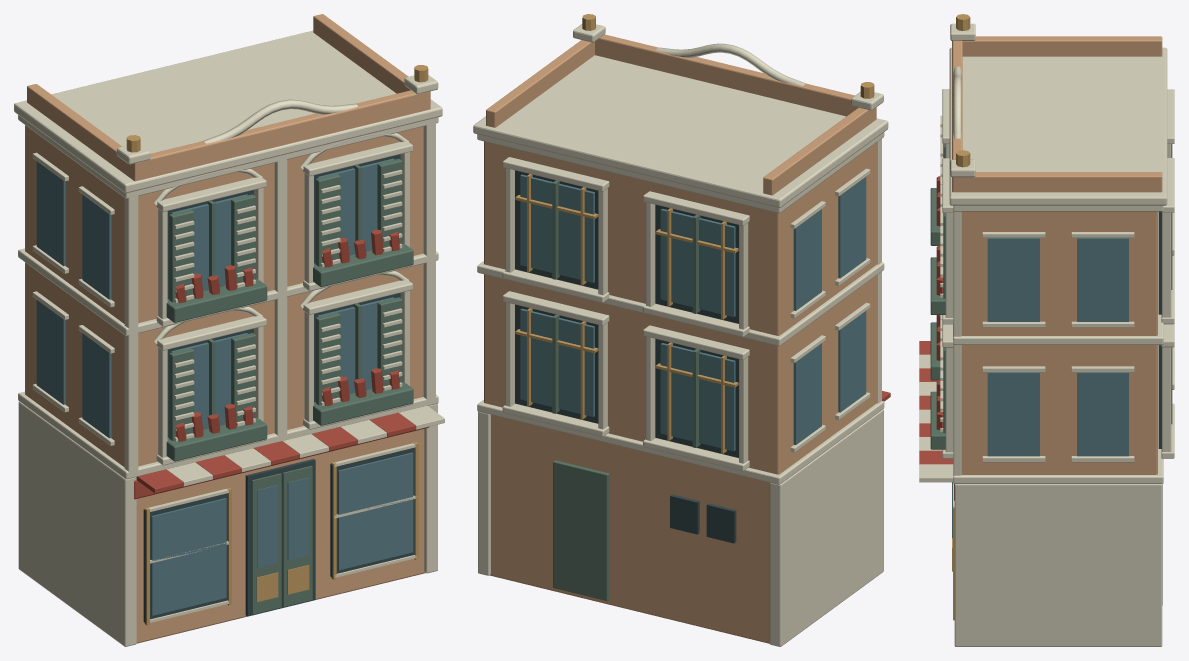
The model's file is yaowarat-shophouse.glb.
3 views of the same model, side by side, from view 1: azimuth 30°, elevation 25°; view 2: azimuth 150°, elevation 25°; view 3: azimuth 270°, elevation 25° (orthographic). The views are drawn at different scales.
Visible parts, largest first — view 1: ShopUpperMesh, ShopLowerMesh; view 2: ShopUpperMesh, ShopLowerMesh; view 3: ShopUpperMesh, ShopLowerMesh.
Boxes of the visible parts, <box> form: ShopUpperMesh: <box>14,14,442,479</box>; ShopLowerMesh: <box>18,401,444,646</box>; ShopUpperMesh: <box>473,14,888,484</box>; ShopLowerMesh: <box>478,391,890,646</box>; ShopUpperMesh: <box>930,14,1174,483</box>; ShopLowerMesh: <box>919,341,1162,646</box>.
Size of the model in its own units: 5.04 by 7.7 by 3.61.
